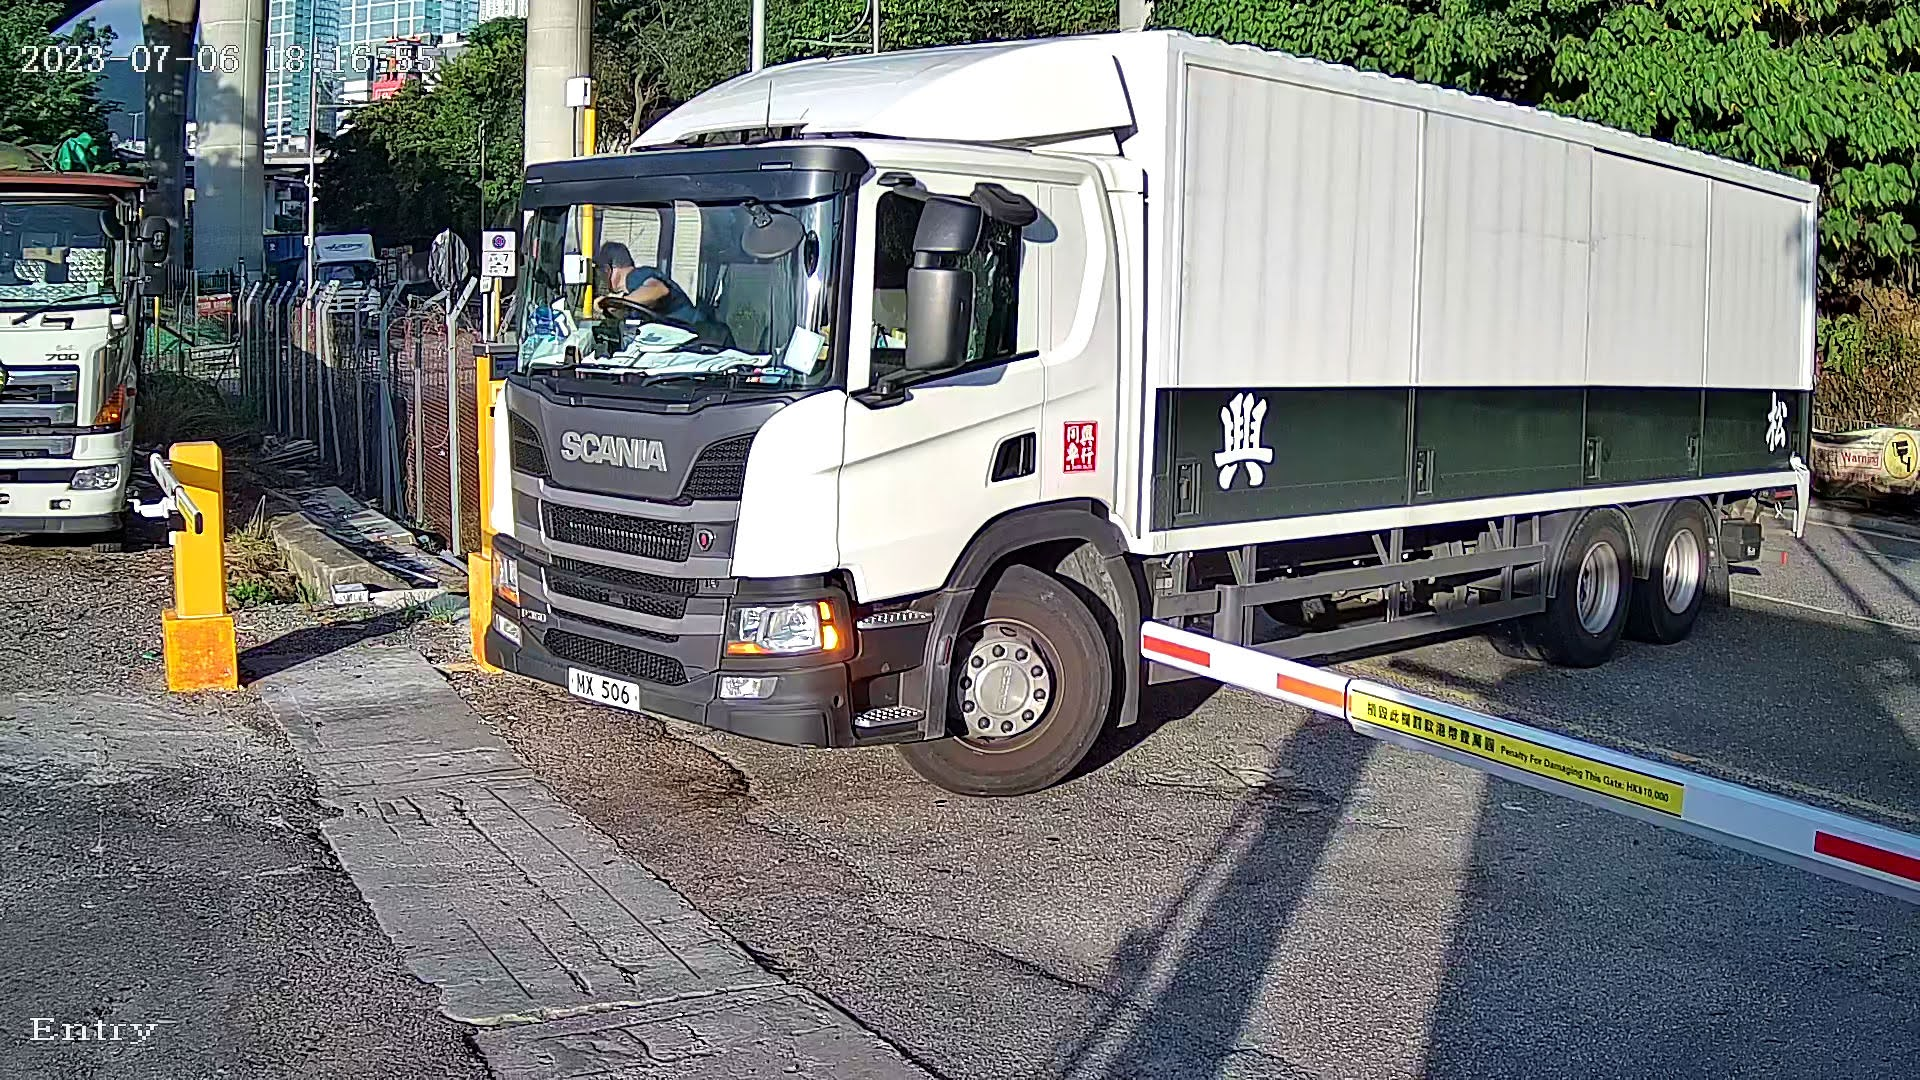truck: (436, 1, 1875, 771)
